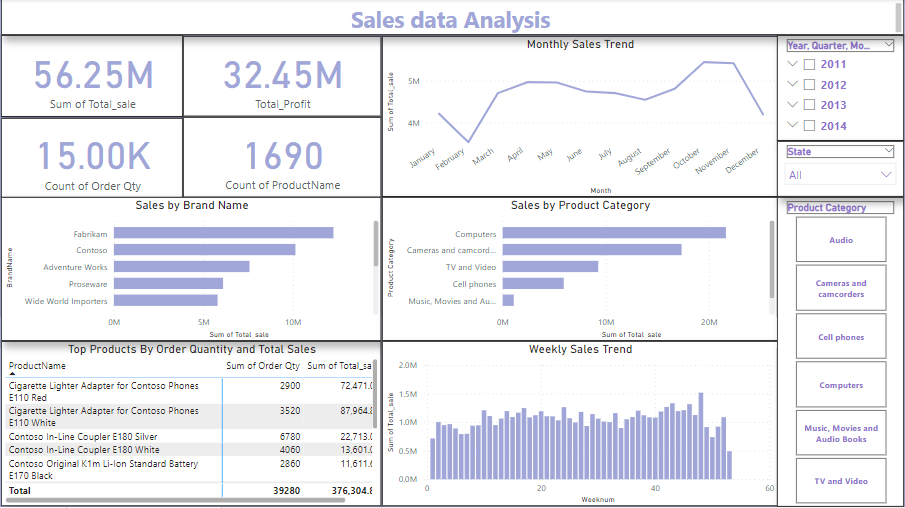

The page's visual inventory and layout, read from the dashboard file:
{"tool":"powerbi","page":{"name":"Sales Analysis","canvas":[1280,720],"ordinal":0},"visuals":[{"type":"card","title":"Total Sale","fields":{"Values":["Sum(Sales_Data.Total_sale)"]},"box":[0,51.4,258.3,115.6],"z":0},{"type":"card","fields":{"Values":["Sales_Data.Total_Profit"]},"box":[258.3,52.8,281.1,114.2],"z":1000},{"type":"card","fields":{"Values":["CountNonNull(Sales_Data.Order Qty)"]},"box":[0,168.4,258.3,112.7],"z":2000},{"type":"card","fields":{"Values":["CountNonNull(Sales_Product.ProductName)"]},"box":[258.3,167,281.1,114.2],"z":3000},{"type":"lineChart","title":"Monthly Sales Trend","fields":{"Category":["Sales_Data.Order Date.Variation.Date Hierarchy.Month"],"Y":["Sum(Sales_Data.Total_sale)"]},"box":[539.4,52.8,560.8,228.3],"z":4000},{"type":"pivotTable","title":"Top Products By Order Quantity and Total Sales","fields":{"Rows":["Sales_Product.ProductName"],"Values":["Sum(Sales_Data.Order Qty)","Sum(Sales_Data.Total_sale)"]},"box":[0,485.2,539.4,234],"z":5000},{"type":"barChart","title":"Sales by Brand Name","fields":{"Category":["Sales_Product.BrandName"],"Y":["Sum(Sales_Data.Total_sale)"]},"box":[0,281.1,539.4,204.1],"z":6000},{"type":"barChart","title":"Sales by Product Category","fields":{"Category":["Sales_Product_Sub_Cat.Product Category"],"Y":["Sum(Sales_Data.Total_sale)"]},"box":[539.4,281.1,560.8,204.1],"z":7000},{"type":"clusteredColumnChart","title":"Weekly Sales Trend","fields":{"Category":["Sales_Data.Weeknum"],"Y":["Sum(Sales_Data.Total_sale)"]},"box":[539.4,485.2,560.8,234],"z":8000},{"type":"slicer","fields":{"Values":["Sales_Data.Order Date.Variation.Date Hierarchy.Year","Sales_Data.Order Date.Variation.Date Hierarchy.Quarter","Sales_Data.Order Date.Variation.Date Hierarchy.Month","Sales_Data.Order Date.Variation.Date Hierarchy.Day"]},"box":[1099.8,51,180,150.2],"z":9000},{"type":"slicer","fields":{"Values":["Sales_Product_Sub_Cat.Product Category"]},"box":[1099.8,280.6,180,439.4],"z":10000},{"type":"slicer","fields":{"Values":["Sales_State.State"]},"box":[1099.8,201.3,180,79.4],"z":11000},{"type":"textbox","box":[0,0,1280,51.4],"z":12000}]}

Visuals, with their boxes in screenshot pixels (x1, y1, x2, y2), scaled from the page's 1280x720 canvas onto the 905x508 screenshot:
"Total Sale" card: 0,36,183,118
card - Sales_Data.Total_Profit: 183,37,381,118
card - CountNonNull(Sales_Data.Order Qty): 0,119,183,198
card - CountNonNull(Sales_Product.ProductName): 183,118,381,198
"Monthly Sales Trend" lineChart: 381,37,778,198
"Top Products By Order Quantity and Total Sales" pivotTable: 0,342,381,507
"Sales by Brand Name" barChart: 0,198,381,342
"Sales by Product Category" barChart: 381,198,778,342
"Weekly Sales Trend" clusteredColumnChart: 381,342,778,507
slicer - Sales_Data.Order Date.Variation.Date Hierarchy.Year x Sales_Data.Order Date.Variation.Date Hierarchy.Quarter: 778,36,904,142
slicer - Sales_Product_Sub_Cat.Product Category: 778,198,904,507
slicer - Sales_State.State: 778,142,904,198
textbox: 0,0,904,36
